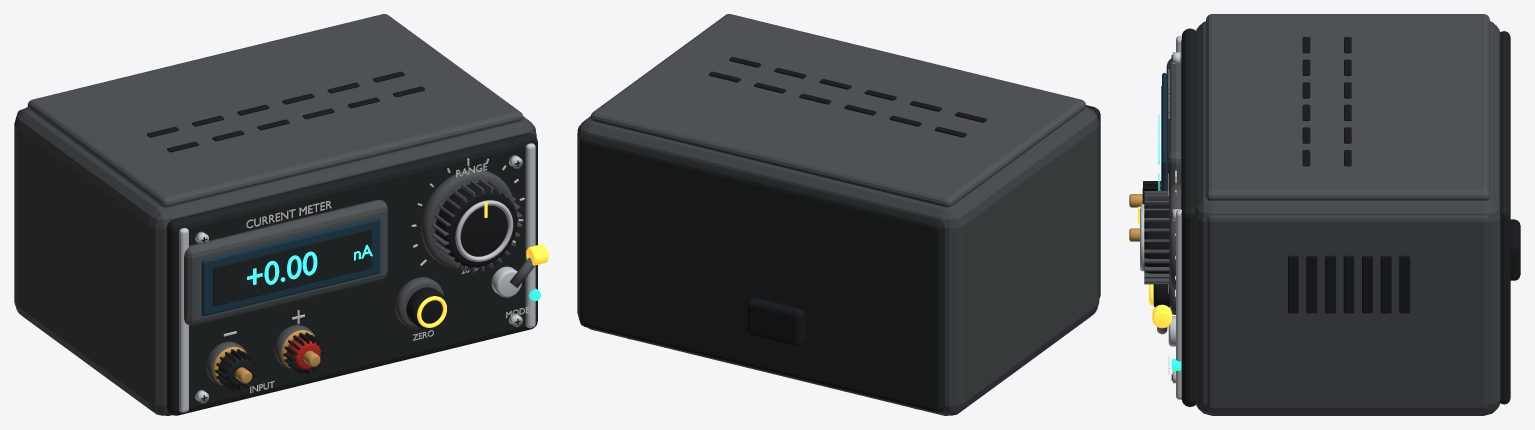
File: photoelectric-picoammeter.glb
3 renders of one model, left to right at view 1: azimuth 30°, elevation 25°; view 2: azimuth 150°, elevation 25°; view 3: azimuth 270°, elevation 25°, orthographic. The views are drawn at different scales.
Visible parts, largest first — view 1: Picoammeter_Top_Panel, Picoammeter_Front_Panel, Picoammeter_Main_Casing, Photocurrent_Display_Bezel, Photocurrent_Display_Inner_Shadow, Photocurrent_Display_Screen, Range_Dial, Top_Cooling_Vents, Range_Dial_Mount, Front_Right_Trim, Front_Left_Trim, Range_Dial_Knurl (+9 smaller); view 2: Picoammeter_Rear_Panel, Picoammeter_Top_Panel, Picoammeter_Main_Casing, Rear_Signal_Port, Top_Cooling_Vents; view 3: Picoammeter_Top_Panel, Picoammeter_Right_Panel, Picoammeter_Main_Casing, Picoammeter_Front_Panel, Right_Side_Cooling_Vents, Picoammeter_Rear_Panel, Photocurrent_Display_Bezel, Top_Cooling_Vents, Range_Dial_Knurl, Range_Dial, Front_Right_Trim, Range_Dial_Mount (+4 smaller).
Part boxes in pixels (bbox=[...]): Picoammeter_Top_Panel: bbox=[27, 14, 523, 207]; Picoammeter_Front_Panel: bbox=[166, 133, 537, 415]; Picoammeter_Main_Casing: bbox=[14, 107, 536, 415]; Photocurrent_Display_Bezel: bbox=[184, 200, 387, 325]; Photocurrent_Display_Inner_Shadow: bbox=[213, 229, 371, 306]; Photocurrent_Display_Screen: bbox=[201, 217, 380, 316]; Range_Dial: bbox=[435, 183, 517, 267]; Top_Cooling_Vents: bbox=[147, 71, 424, 152]; Range_Dial_Mount: bbox=[420, 169, 511, 268]; Front_Right_Trim: bbox=[525, 143, 535, 328]; Front_Left_Trim: bbox=[179, 228, 188, 412]; Range_Dial_Knurl: bbox=[432, 179, 522, 272]; Picoammeter_Rear_Panel: bbox=[579, 135, 944, 412]; Picoammeter_Top_Panel: bbox=[590, 14, 1085, 207]; Picoammeter_Main_Casing: bbox=[577, 107, 1099, 415]; Rear_Signal_Port: bbox=[747, 297, 804, 346]; Top_Cooling_Vents: bbox=[709, 56, 986, 137]; Picoammeter_Top_Panel: bbox=[1206, 14, 1489, 200]; Picoammeter_Right_Panel: bbox=[1207, 215, 1488, 411]; Picoammeter_Main_Casing: bbox=[1195, 21, 1500, 415]; Picoammeter_Front_Panel: bbox=[1181, 28, 1196, 406]; Right_Side_Cooling_Vents: bbox=[1288, 255, 1410, 313]; Picoammeter_Rear_Panel: bbox=[1500, 31, 1510, 404]; Photocurrent_Display_Bezel: bbox=[1166, 58, 1181, 190]; Top_Cooling_Vents: bbox=[1302, 37, 1351, 166]; Range_Dial_Knurl: bbox=[1144, 191, 1169, 284]; Range_Dial: bbox=[1144, 199, 1169, 273]; Front_Right_Trim: bbox=[1176, 209, 1181, 399]; Range_Dial_Mount: bbox=[1169, 184, 1181, 290].
Bounding box in the file's own units: 4.21 × 2.31 × 3.58.
